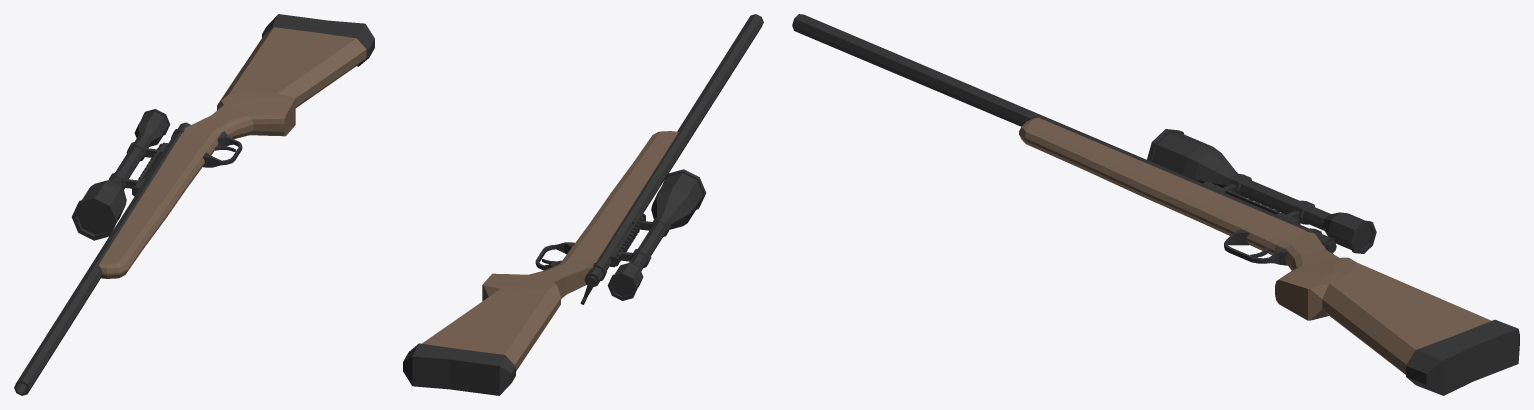
File: Guns_11.fbx
3 renders of one model, left to right at view 1: azimuth 30°, elevation 25°; view 2: azimuth 210°, elevation 25°; view 3: azimuth 270°, elevation 25°, orthographic. The views are drawn at different scales.
Parts seen in each view (by area): view 1: Gun-11; view 2: Gun-11; view 3: Gun-11.
Boxes of the visible parts, x1,y1,x2,y2 form: Gun-11: (14, 14, 374, 395); Gun-11: (403, 14, 763, 395); Gun-11: (792, 14, 1519, 395).
Bounding box in the file's own units: 3.58 × 0.3026 × 3.06.
